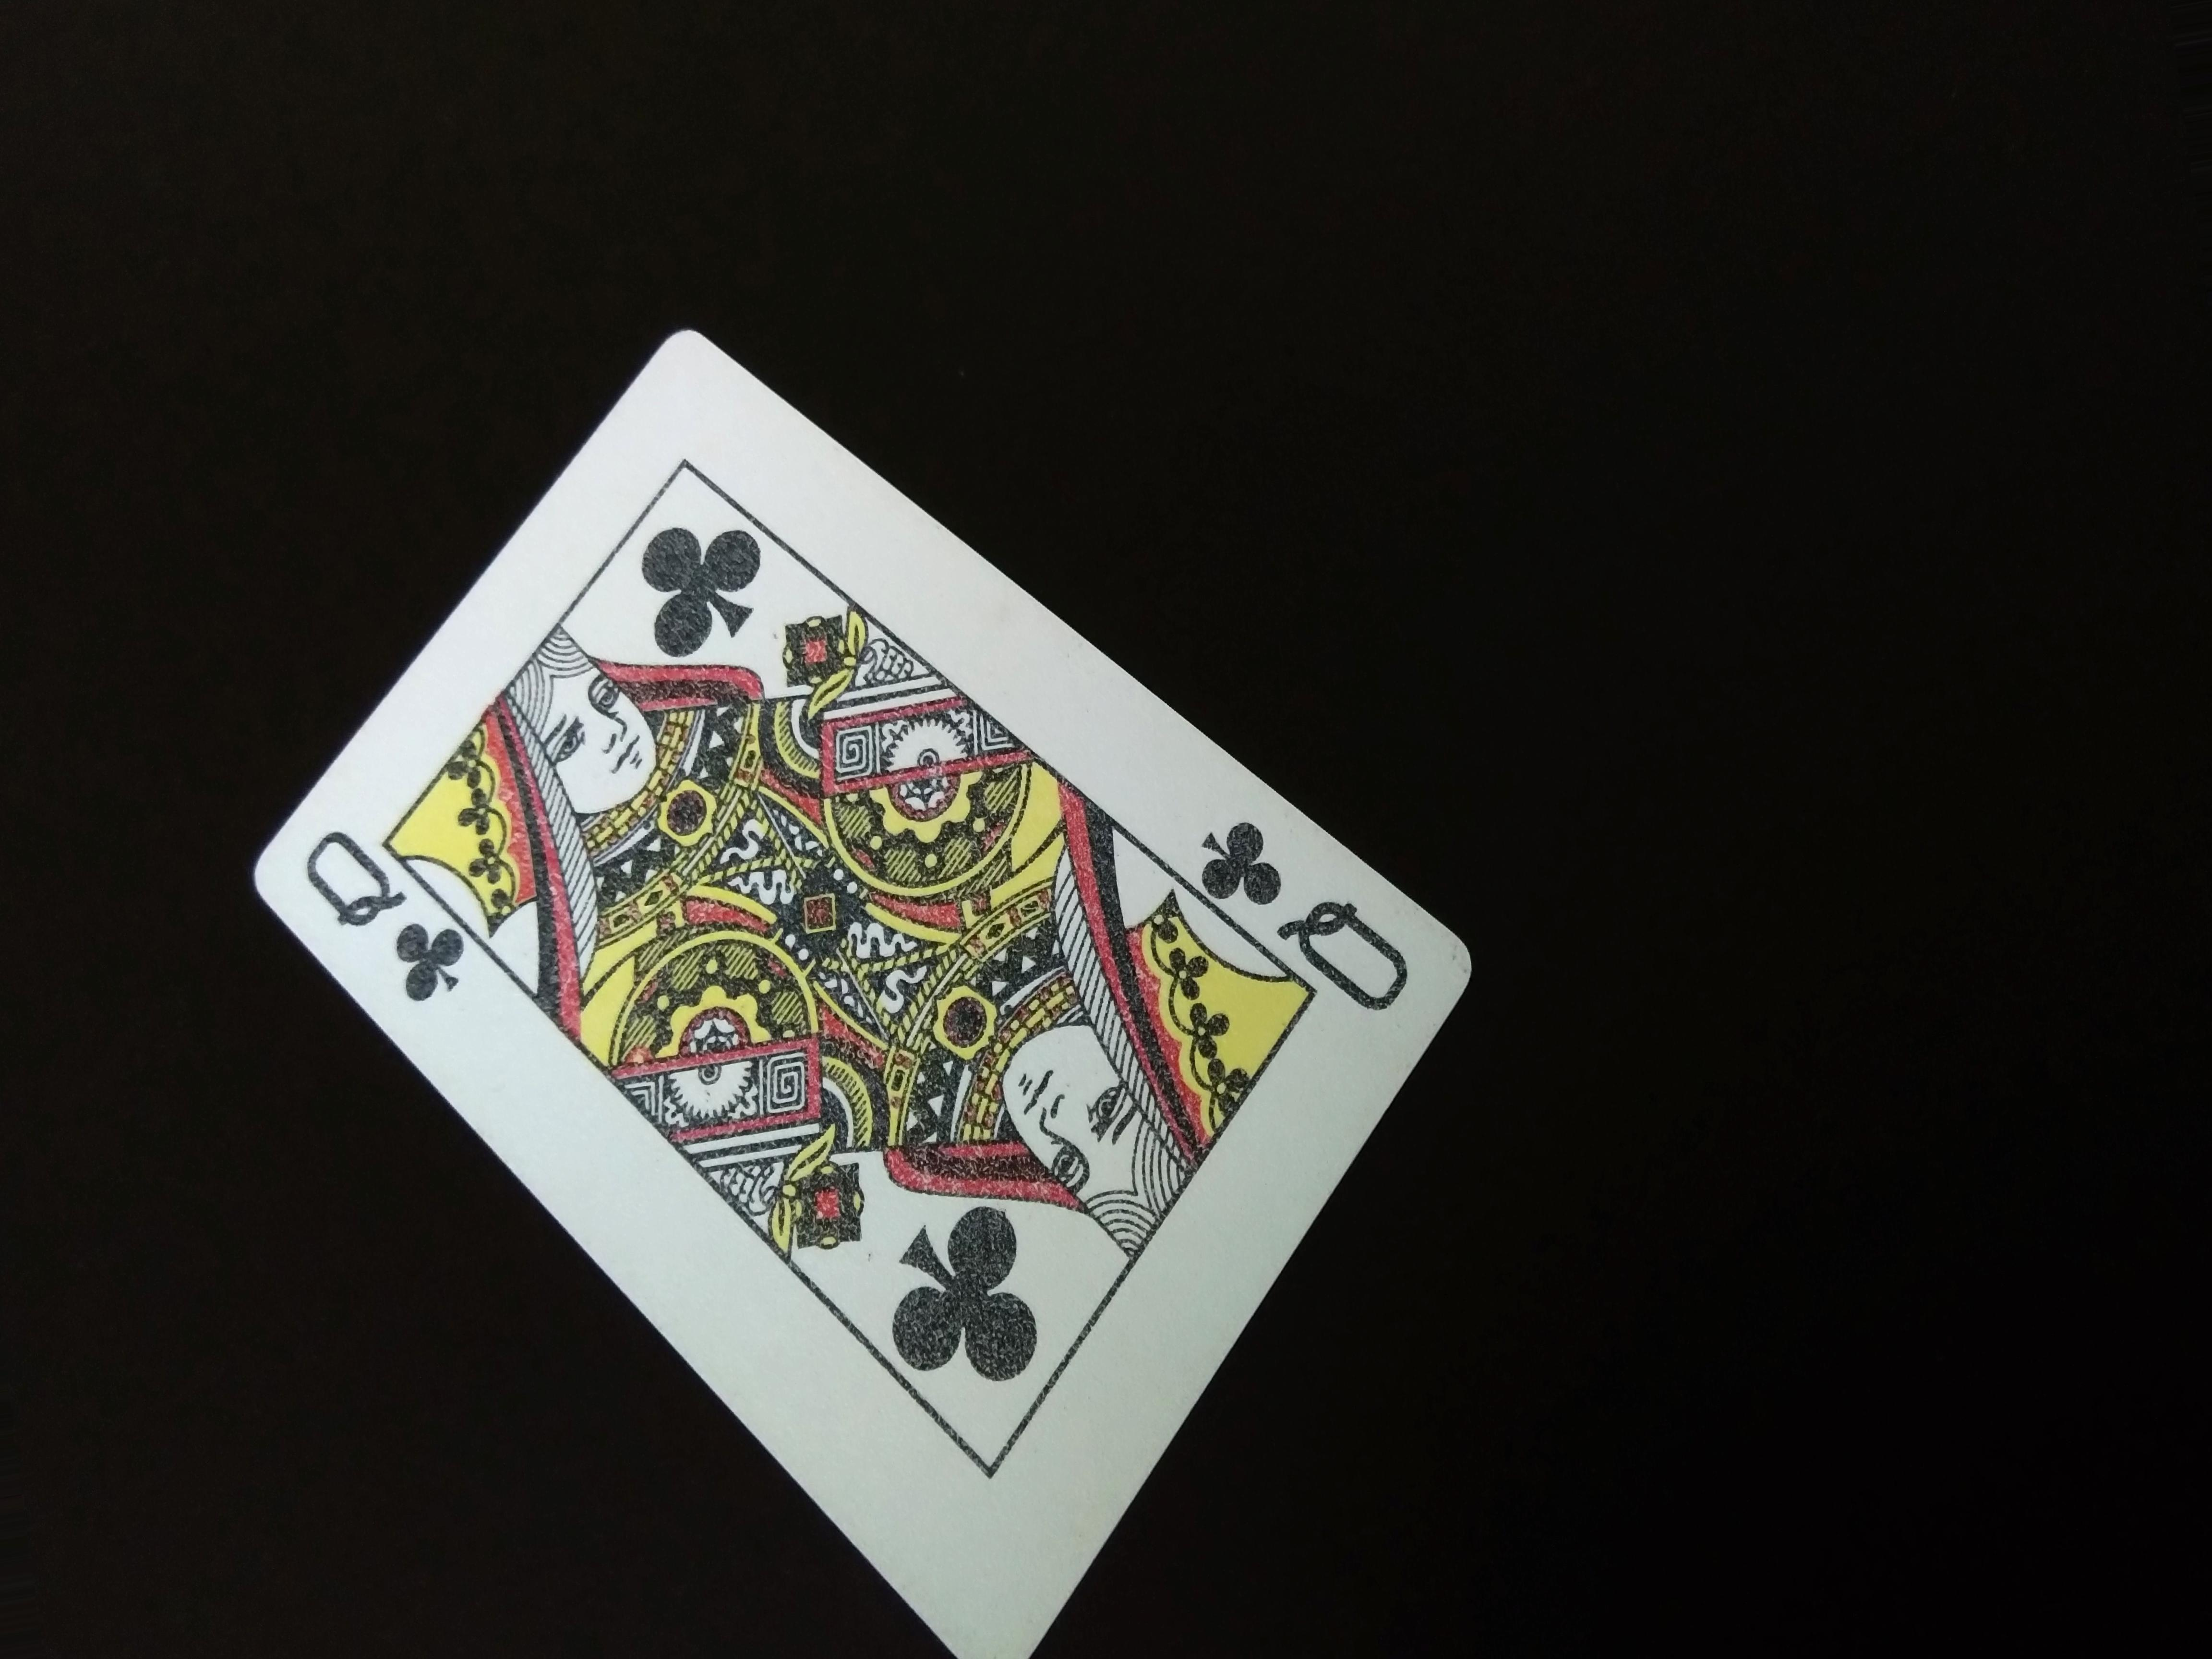QC: (1163, 803, 1428, 1018)
